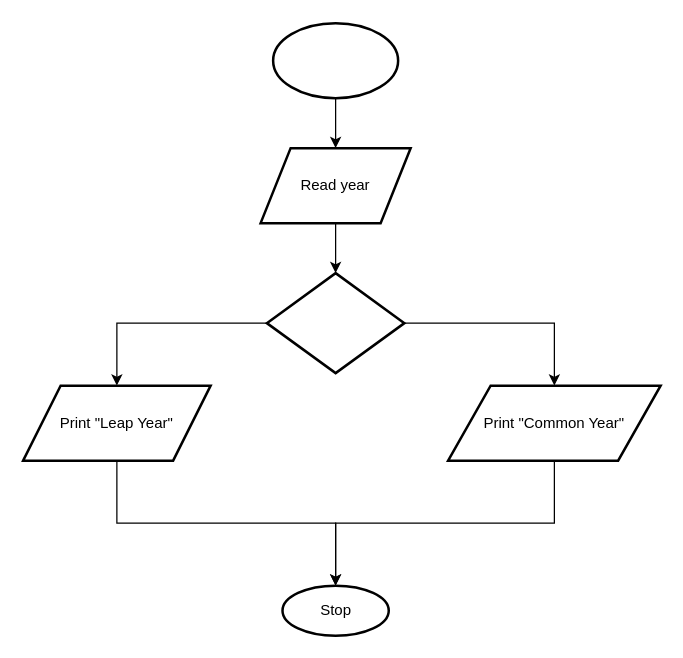
The diagram is 683 pixels wide and 658 high, and some of its shapes have lost their labels. Each missing label, with the centre of its shape:
Start: (335,60)
year mod 4 = 0: (335,322)
